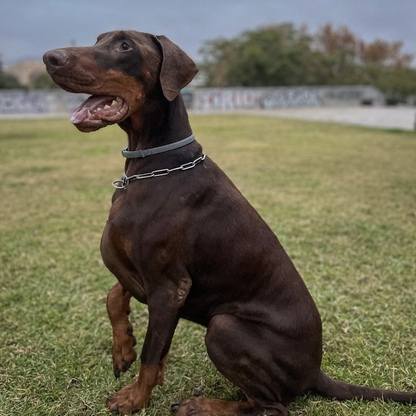doberman: (36, 26, 340, 416)
